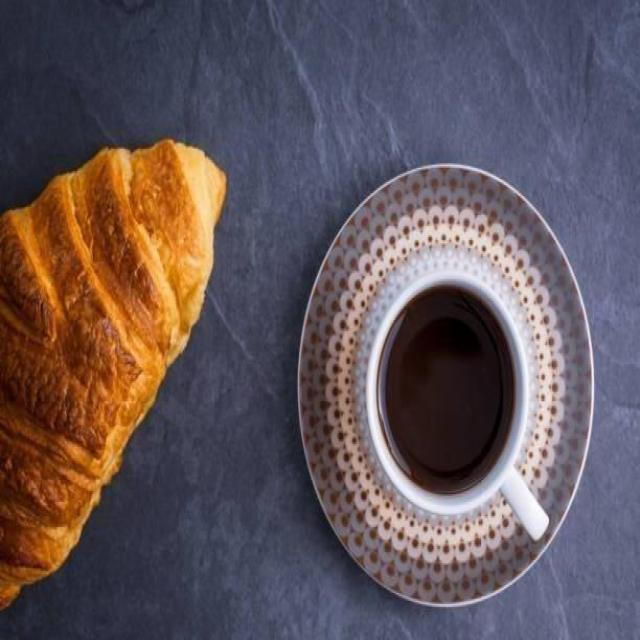cup-handle: (364, 273, 551, 538)
